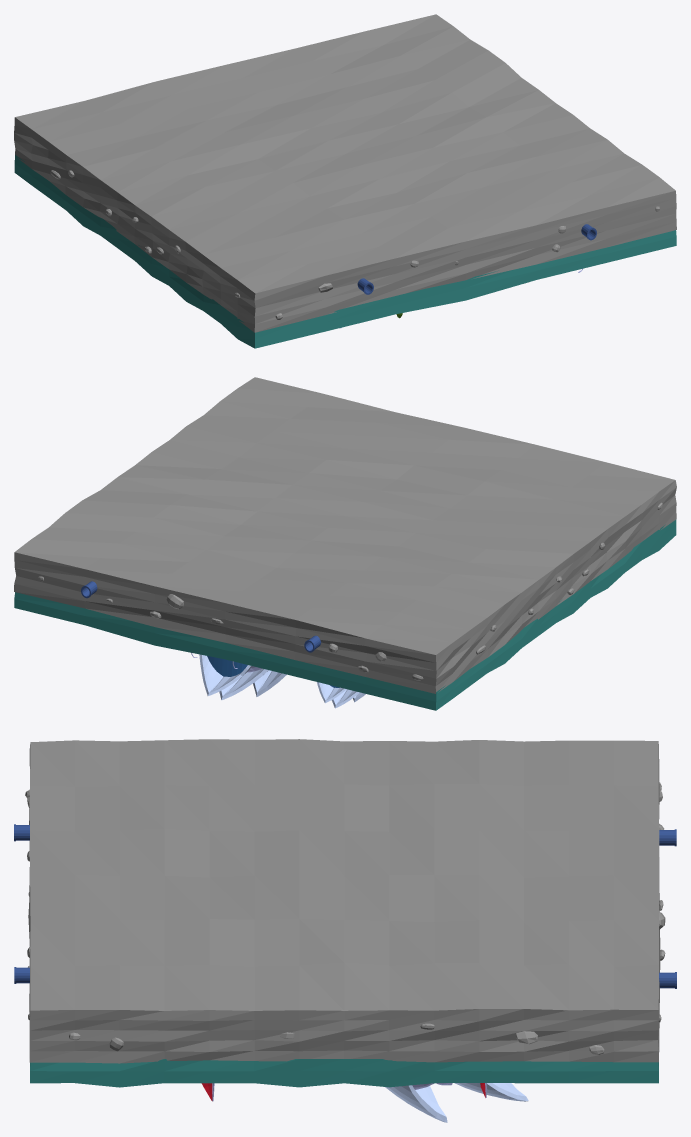
File: sidney.FBX
The picture shows the model from 3 angles, top to bottom: view 1: azimuth 30°, elevation 25°; view 2: azimuth 150°, elevation 25°; view 3: azimuth 270°, elevation 25°; orthographic projection. The views are drawn at different scales.
Parts seen in each view (by area): view 1: sidney; view 2: sidney; view 3: sidney.
Part boxes in pixels (x1,y1,x2,y2): sidney: (14, 14, 676, 348); sidney: (14, 377, 676, 710); sidney: (14, 739, 676, 1122).
Bounding box in the file's own units: 10478 × 10679 × 3879.
